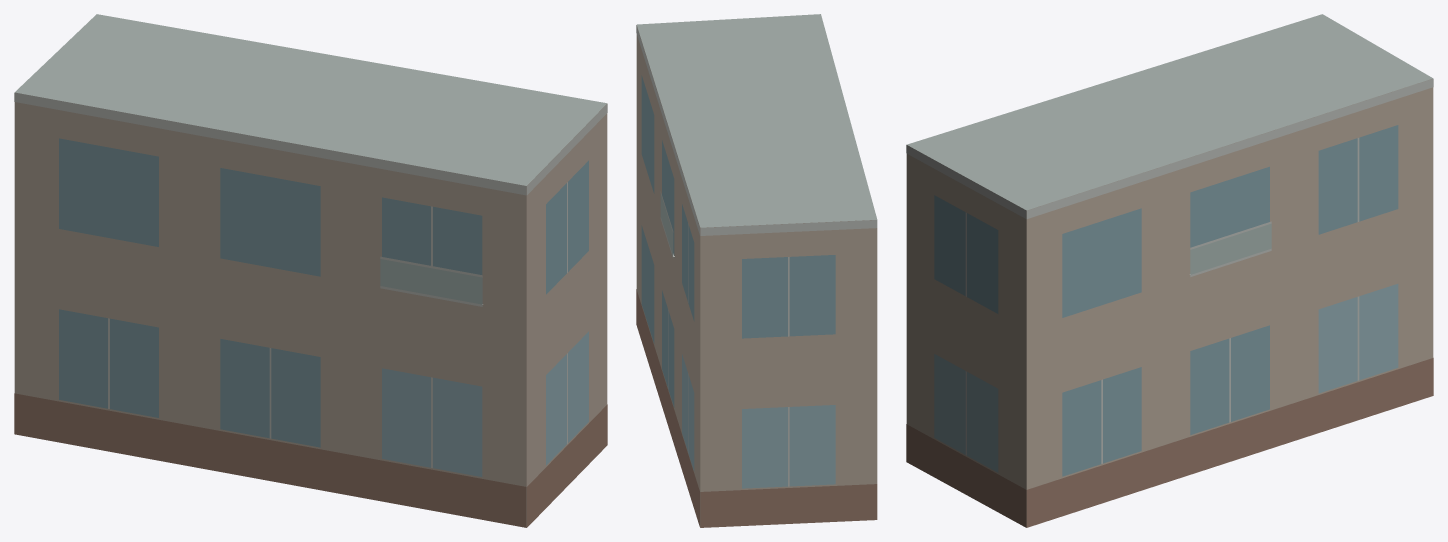
The model's file is survey-upis-32509071.glb.
The picture shows the model from 3 angles, left to right: view 1: azimuth 30°, elevation 25°; view 2: azimuth 150°, elevation 25°; view 3: azimuth 270°, elevation 25°; orthographic projection. The views are drawn at different scales.
Visible parts, largest first — view 1: survey-upis-32509071.tmp; view 2: survey-upis-32509071.tmp; view 3: survey-upis-32509071.tmp.
Boxes of the visible parts, bbox=[...] form: survey-upis-32509071.tmp: bbox=[14, 14, 607, 527]; survey-upis-32509071.tmp: bbox=[636, 14, 877, 527]; survey-upis-32509071.tmp: bbox=[906, 14, 1433, 527].
Size of the model in its own units: 11.69 by 8.8 by 13.25.
